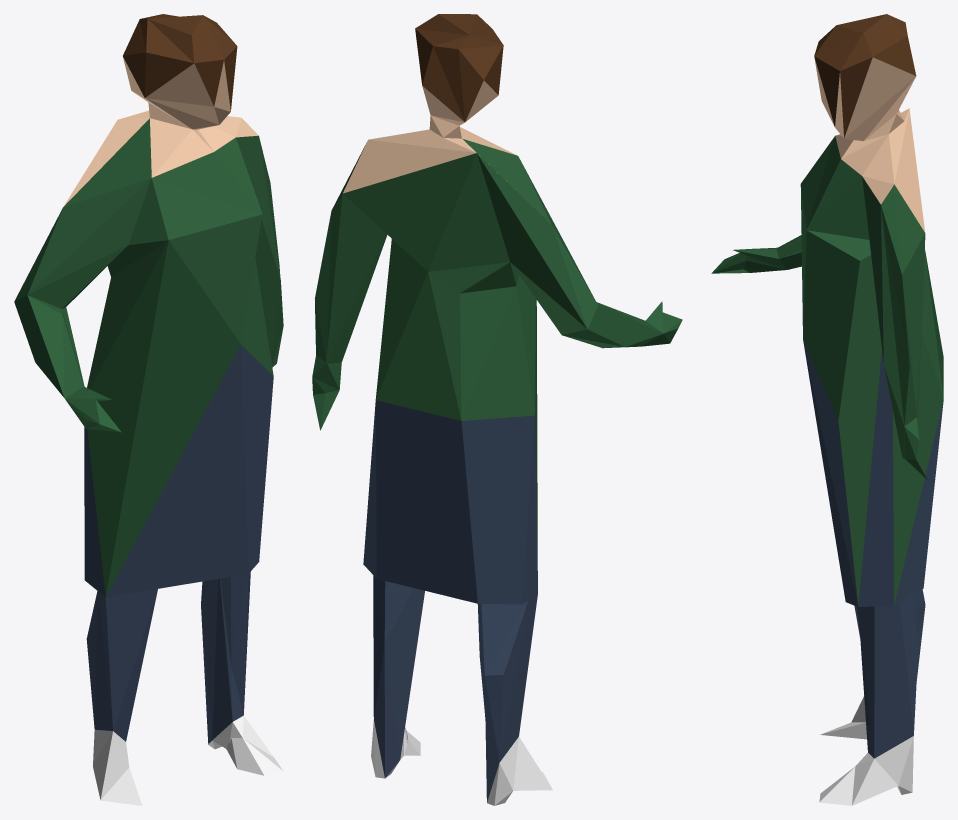
File: walker-11.glb
3 renders of one model, left to right at view 1: azimuth 30°, elevation 25°; view 2: azimuth 150°, elevation 25°; view 3: azimuth 270°, elevation 25°, orthographic.
Visible parts, largest first — view 1: Woman07; view 2: Woman07; view 3: Woman07.
Part boxes in pixels (box(x1,y1,x2,y2)): Woman07: box(14, 14, 283, 805); Woman07: box(312, 14, 682, 805); Woman07: box(711, 14, 943, 805).
Size of the model in its own units: 0.5715 by 1.45 by 0.4133.
